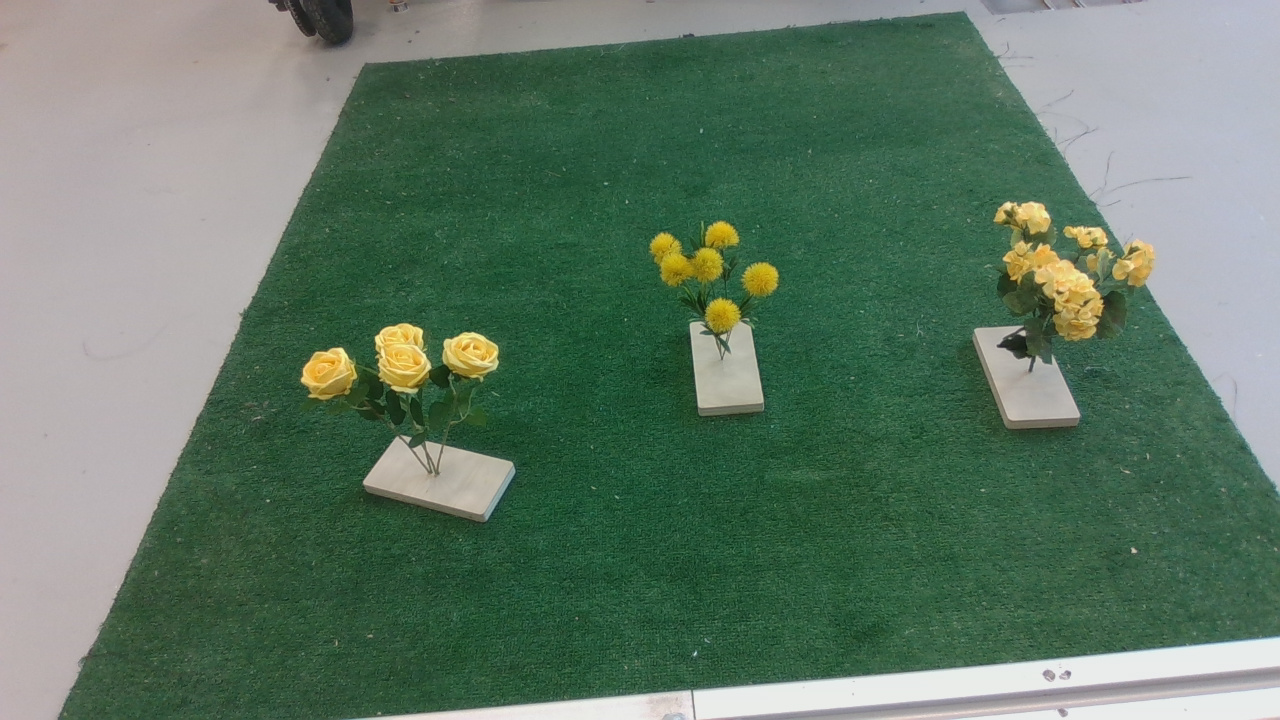dandelion: (645, 220, 789, 363)
geranium: (984, 198, 1167, 379)
rose: (300, 326, 523, 442)
